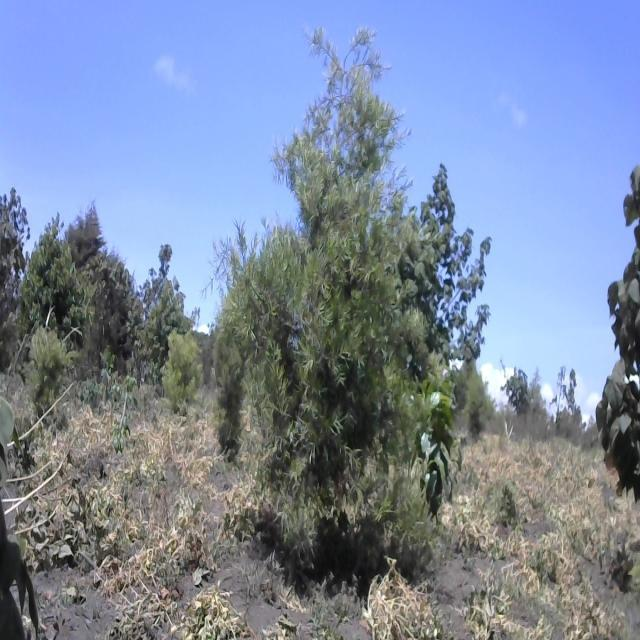Lemon Myrtle: (23, 211, 88, 348)
Podocarpus falcatus: (231, 41, 411, 562), (160, 326, 202, 412)
Vitex keniensis: (606, 150, 640, 478)
cedrus: (62, 197, 109, 272)
other: (413, 170, 496, 388)
